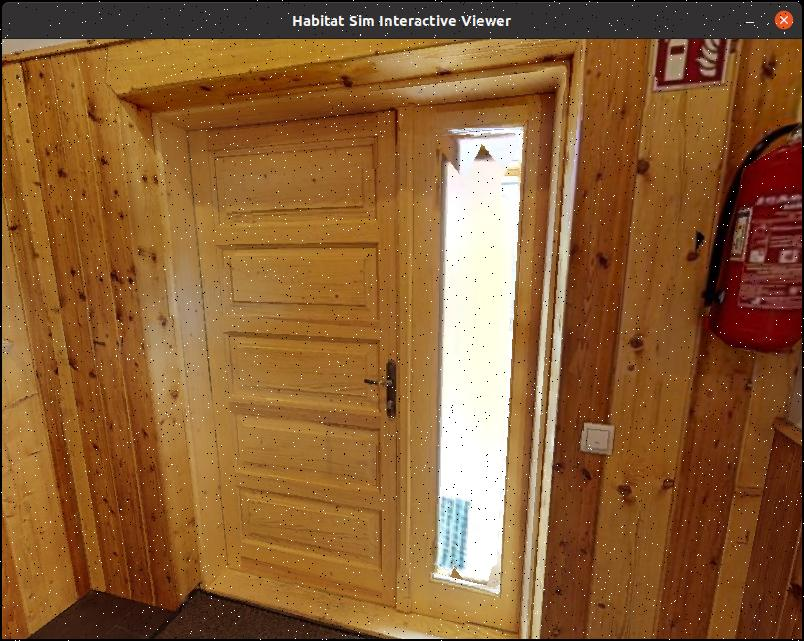door: (175, 99, 409, 596)
